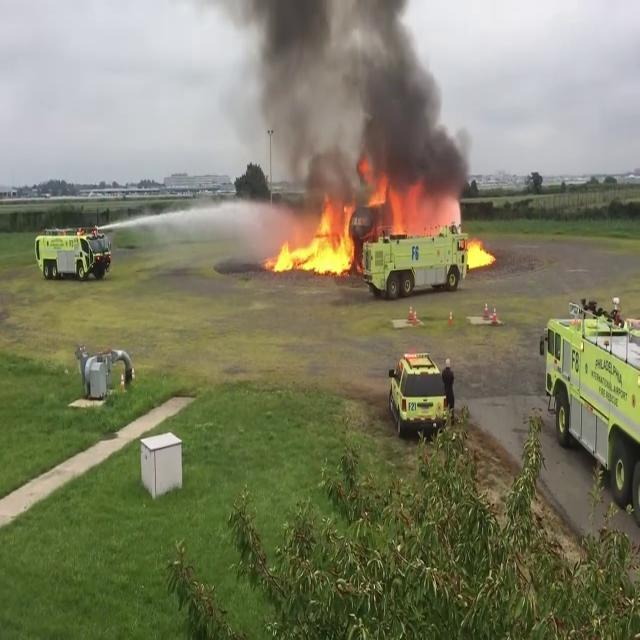Fire: (268, 201, 356, 278), (366, 177, 462, 234), (460, 234, 496, 268)
Smoke: (220, 1, 470, 192)
